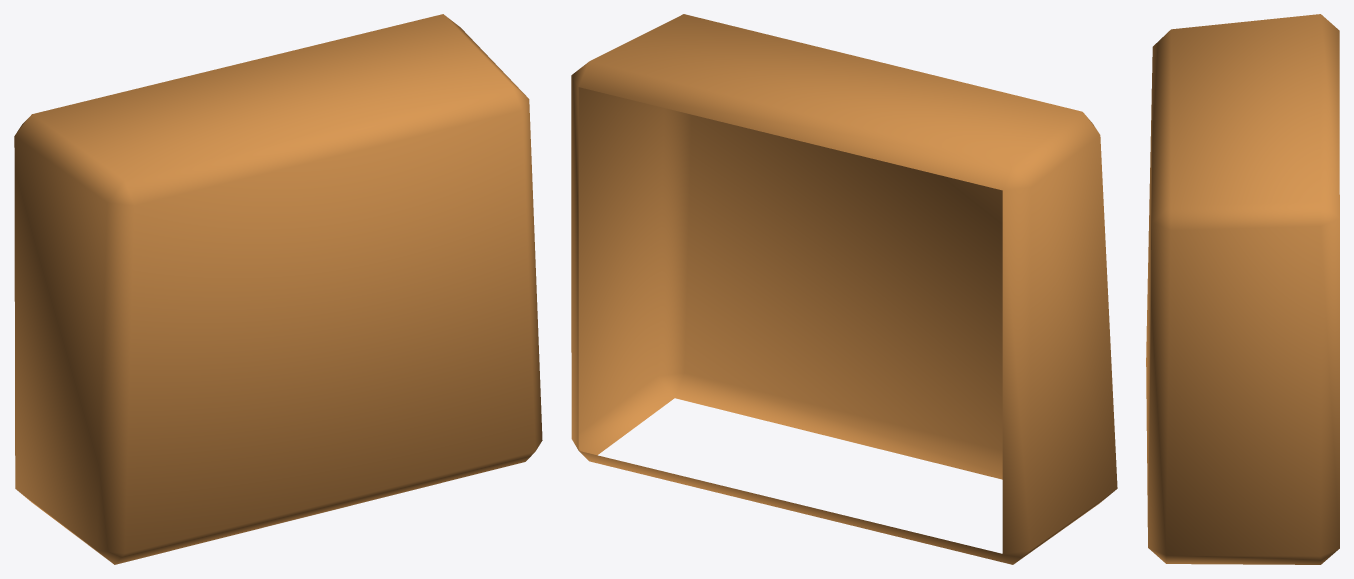
The model's file is block_a_lo.glb.
The picture shows the model from 3 angles, left to right: view 1: azimuth 30°, elevation 25°; view 2: azimuth 150°, elevation 25°; view 3: azimuth 270°, elevation 25°; orthographic projection. The views are drawn at different scales.
Visible parts, largest first — view 1: block_a_lo; view 2: block_a_lo; view 3: block_a_lo.
Part boxes in pixels (x1,y1,x2,y2): block_a_lo: (14,14,542,564); block_a_lo: (571,14,1117,564); block_a_lo: (1146,14,1339,564).
Size of the model in its own units: 0.9012 by 0.7512 by 0.3619.
